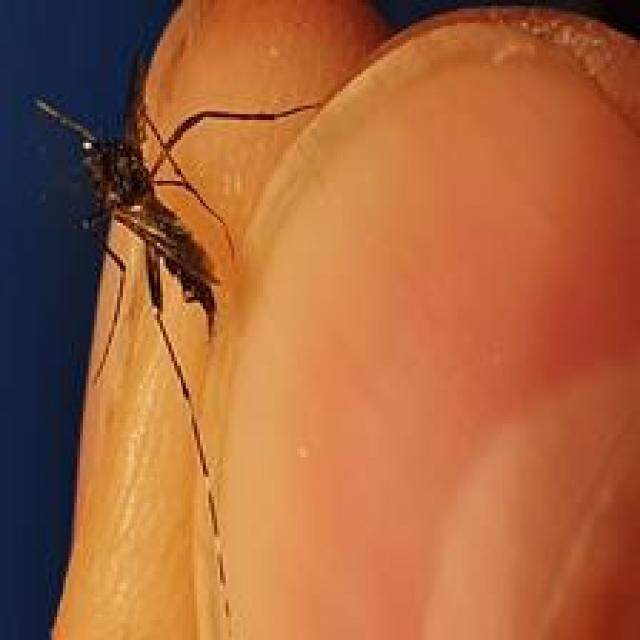Aedes albopictus: (30, 68, 324, 623)
